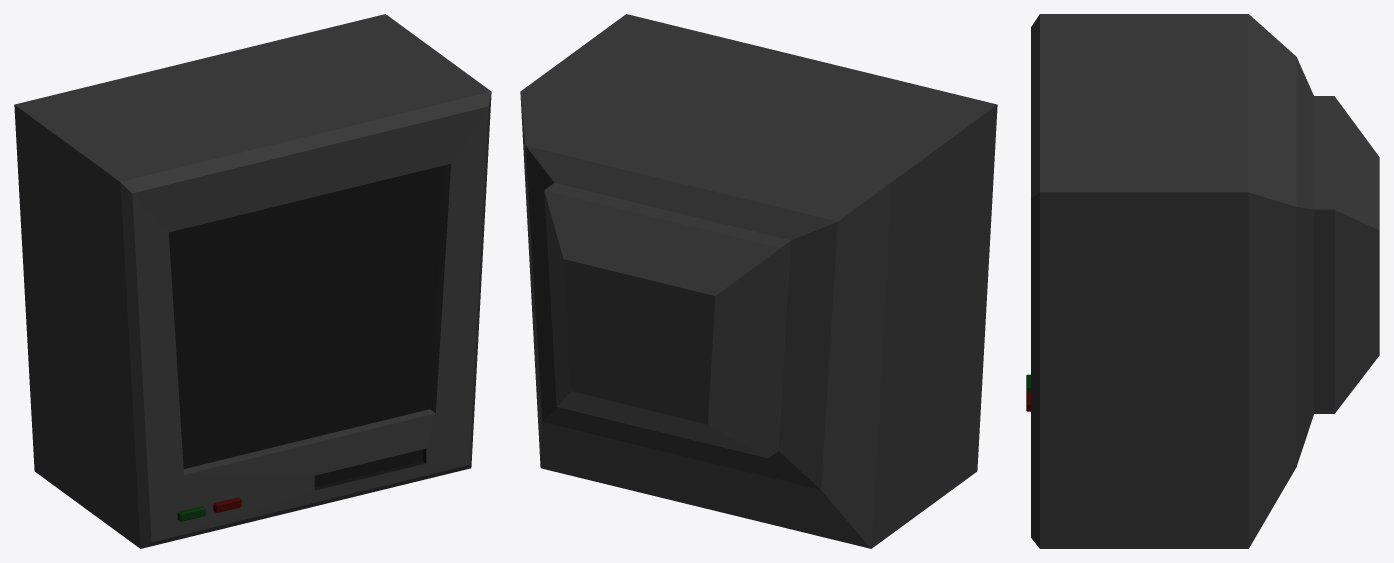
3 views of the same model, side by side, from view 1: azimuth 30°, elevation 25°; view 2: azimuth 150°, elevation 25°; view 3: azimuth 270°, elevation 25° (orthographic).
Visible parts, largest first — view 1: Prop_OldTV; view 2: Prop_OldTV; view 3: Prop_OldTV.
Boxes of the visible parts, left/top/right/bottom form: Prop_OldTV: left=14, top=14, right=491, bottom=548; Prop_OldTV: left=520, top=14, right=997, bottom=548; Prop_OldTV: left=1026, top=14, right=1379, bottom=548.
Size of the model in its own units: 89.73 by 85.85 by 75.13.
Materials: 1 (1 with a texture image).
